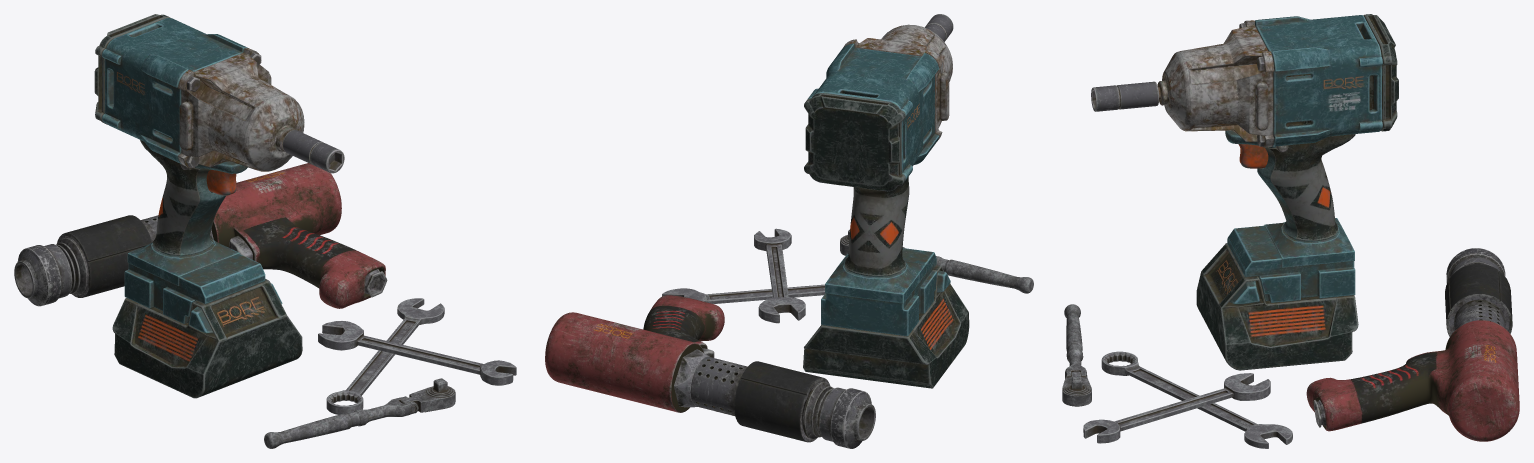
The model's file is garage-tools.glb.
3 renders of one model, left to right at view 1: azimuth 30°, elevation 25°; view 2: azimuth 150°, elevation 25°; view 3: azimuth 270°, elevation 25°, orthographic.
Size of the model in its own units: 0.2667 by 0.2523 by 0.3429.
3 materials, 3 textured.
